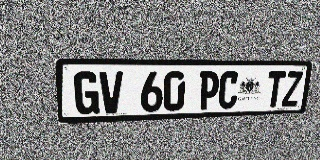0: (163, 71, 185, 111)
6: (141, 71, 164, 112)
C: (217, 71, 240, 109)
G: (73, 71, 99, 115)
P: (198, 71, 220, 110)
T: (264, 71, 286, 107)
V: (99, 71, 123, 114)
Z: (281, 71, 303, 107)
